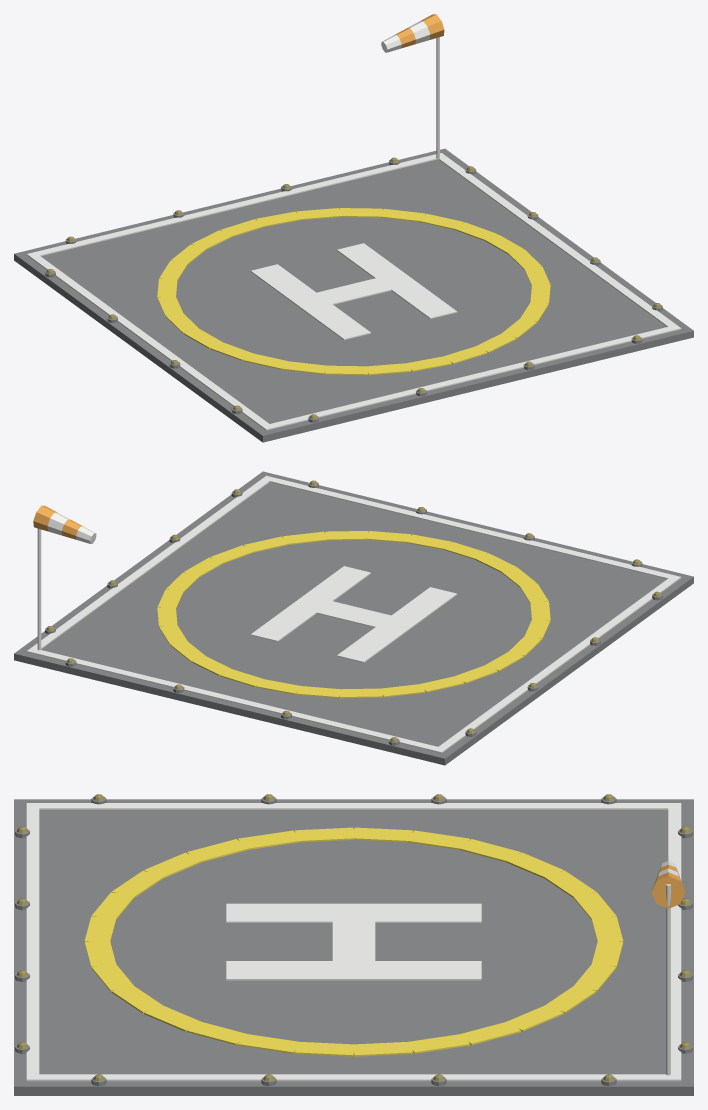
Rendered from HJ_Helipuerto.fbx.
3 views of the same model, one above another, from view 1: azimuth 30°, elevation 25°; view 2: azimuth 150°, elevation 25°; view 3: azimuth 270°, elevation 25° (orthographic). The views are drawn at different scales.
Parts seen in each view (by area): view 1: HJ_Helipuerto; view 2: HJ_Helipuerto; view 3: HJ_Helipuerto.
Boxes of the visible parts, bbox=[...] form: HJ_Helipuerto: bbox=[14, 14, 693, 442]; HJ_Helipuerto: bbox=[14, 471, 693, 765]; HJ_Helipuerto: bbox=[14, 794, 693, 1095].
Size of the model in its own units: 8 by 2.7 by 8.
